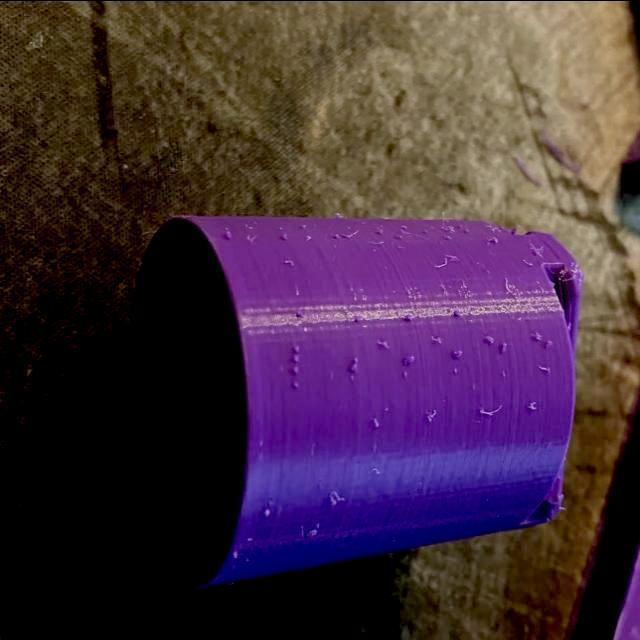zits: (304, 520, 321, 544), (345, 358, 359, 372), (402, 352, 416, 366), (489, 233, 504, 246), (291, 378, 305, 390), (292, 340, 304, 354), (452, 344, 464, 358), (498, 338, 512, 350), (544, 338, 558, 350), (530, 328, 542, 342), (370, 416, 382, 430), (280, 228, 292, 240), (484, 332, 494, 346), (262, 503, 270, 518), (291, 364, 303, 374), (452, 308, 462, 320), (292, 350, 301, 362), (462, 224, 472, 234)
